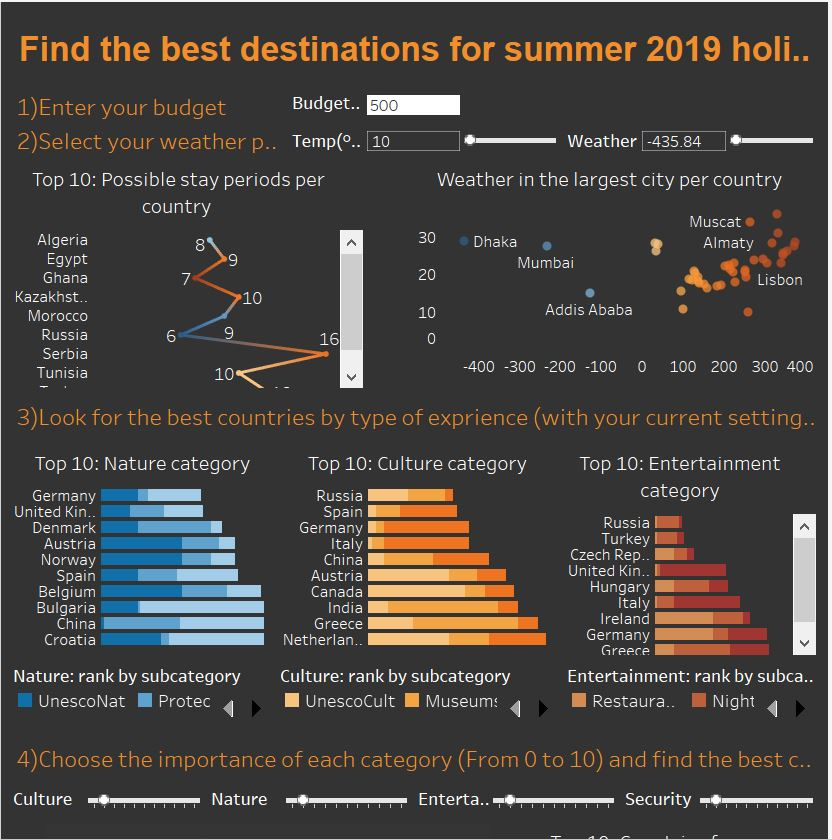

What the dashboard file says about the page in this screenshot:
{"tool":"tableau","page":{"name":"Final_dashboard","canvas":[1650,865],"ordinal":0},"visuals":[{"type":"text","box":[19,15,859,62]},{"type":"worksheet","title":"Chart-1","mark":"Line","rows":["Country"],"cols":["PossibleStay"],"box":[497,88,484,397]},{"type":"worksheet","title":"Chart-2","mark":"Circle","rows":["Temp(°C)"],"cols":["Weather (VeryRainy=-500  VerySunny=500)"],"box":[990,91,630,393]},{"type":"parameter","param":"[Parameters].[Parameter 1]","box":[312,114,160,75]},{"type":"text","box":[21,125,270,37]},{"type":"text","box":[23,179,271,131]},{"type":"parameter","param":"[Parameters].[Parameter 2]","box":[242,202,290,31]},{"type":"parameter","param":"[Parameters].[Parameter 3]","box":[243,238,293,32]},{"type":"text","box":[10,497,1628,51]},{"type":"worksheet","title":"Chart-5","mark":"Automatic","rows":["Country"],"box":[1082,537,550,288]},{"type":"worksheet","title":"Chart-4","mark":"Automatic","rows":["Country"],"box":[522,540,550,288]},{"type":"worksheet","title":"Chart-3","mark":"Automatic","rows":["Country"],"box":[10,542,550,288]},{"type":"text","box":[1164,787,431,37]},{"type":"text","box":[619,789,346,30]},{"type":"text","box":[106,794,335,30]},{"type":"legend","title":"Chart-4","param":"[federated.0gkzp2p0oiooba15mwaoe1pz0pvb].[:Measure Names]","box":[574,826,467,26]},{"type":"legend","title":"Chart-5","param":"[federated.0gkzp2p0oiooba15mwaoe1pz0pvb].[:Measure Names]","box":[1120,826,478,25]},{"type":"legend","title":"Chart-3","param":"[federated.0gkzp2p0oiooba15mwaoe1pz0pvb].[:Measure Names]","box":[15,827,546,22]}]}

Visuals, with their boxes on the page's 1650x865 design canvas (x1, y1, x2, y2). These are canvas units, not pixel positions in the 832x840 screenshot, which may show the page scaled, cropped or inside an application window:
text: x1=19, y1=15, x2=878, y2=77
"Chart-1" worksheet (Line marks): x1=497, y1=88, x2=981, y2=485
"Chart-2" worksheet (Circle marks): x1=990, y1=91, x2=1620, y2=484
parameter: x1=312, y1=114, x2=472, y2=189
text: x1=21, y1=125, x2=291, y2=162
text: x1=23, y1=179, x2=294, y2=310
parameter: x1=242, y1=202, x2=532, y2=233
parameter: x1=243, y1=238, x2=536, y2=270
text: x1=10, y1=497, x2=1638, y2=548
"Chart-5" worksheet: x1=1082, y1=537, x2=1632, y2=825
"Chart-4" worksheet: x1=522, y1=540, x2=1072, y2=828
"Chart-3" worksheet: x1=10, y1=542, x2=560, y2=830
text: x1=1164, y1=787, x2=1595, y2=824
text: x1=619, y1=789, x2=965, y2=819
text: x1=106, y1=794, x2=441, y2=824
"Chart-4" legend: x1=574, y1=826, x2=1041, y2=852
"Chart-5" legend: x1=1120, y1=826, x2=1598, y2=851
"Chart-3" legend: x1=15, y1=827, x2=561, y2=849
